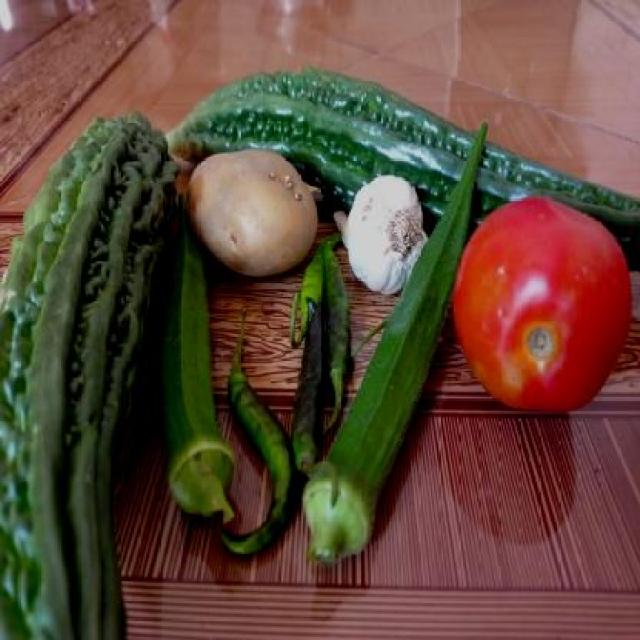Bitter melon: (0, 124, 164, 640)
Garlic: (346, 178, 431, 291)
Green Chili: (230, 368, 296, 560), (298, 274, 352, 415)
Lady finger: (308, 314, 437, 561), (162, 272, 232, 512)
Potato: (186, 151, 320, 274)
Tomato: (455, 194, 640, 415)
